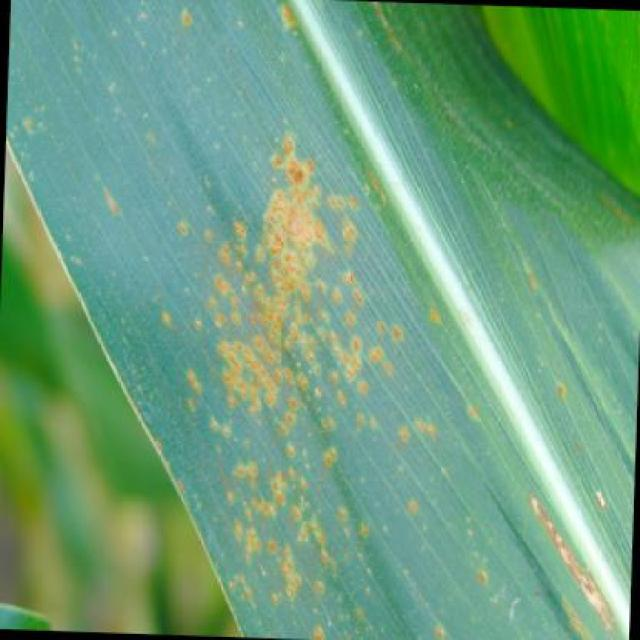Corn_Rust: (35, 12, 594, 623)
